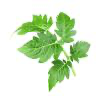Tomato leaf: (17, 31, 63, 67), (13, 7, 57, 41), (45, 55, 72, 94), (53, 7, 75, 47), (69, 40, 92, 65)
